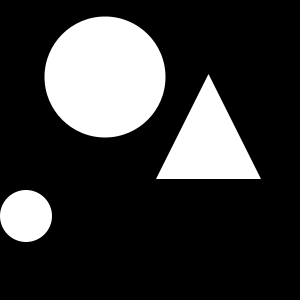rectangle: (44, 16, 166, 138), (0, 190, 52, 242), (120, 26, 136, 44)
triangle: (156, 74, 261, 179)
